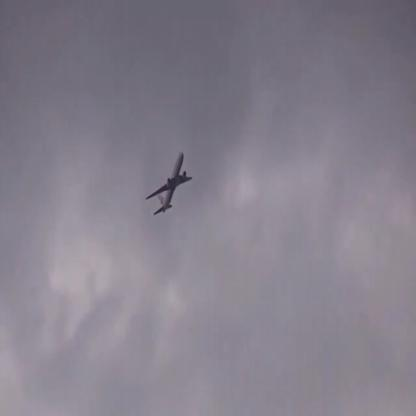CIV_Plane: (145, 151, 194, 216)
